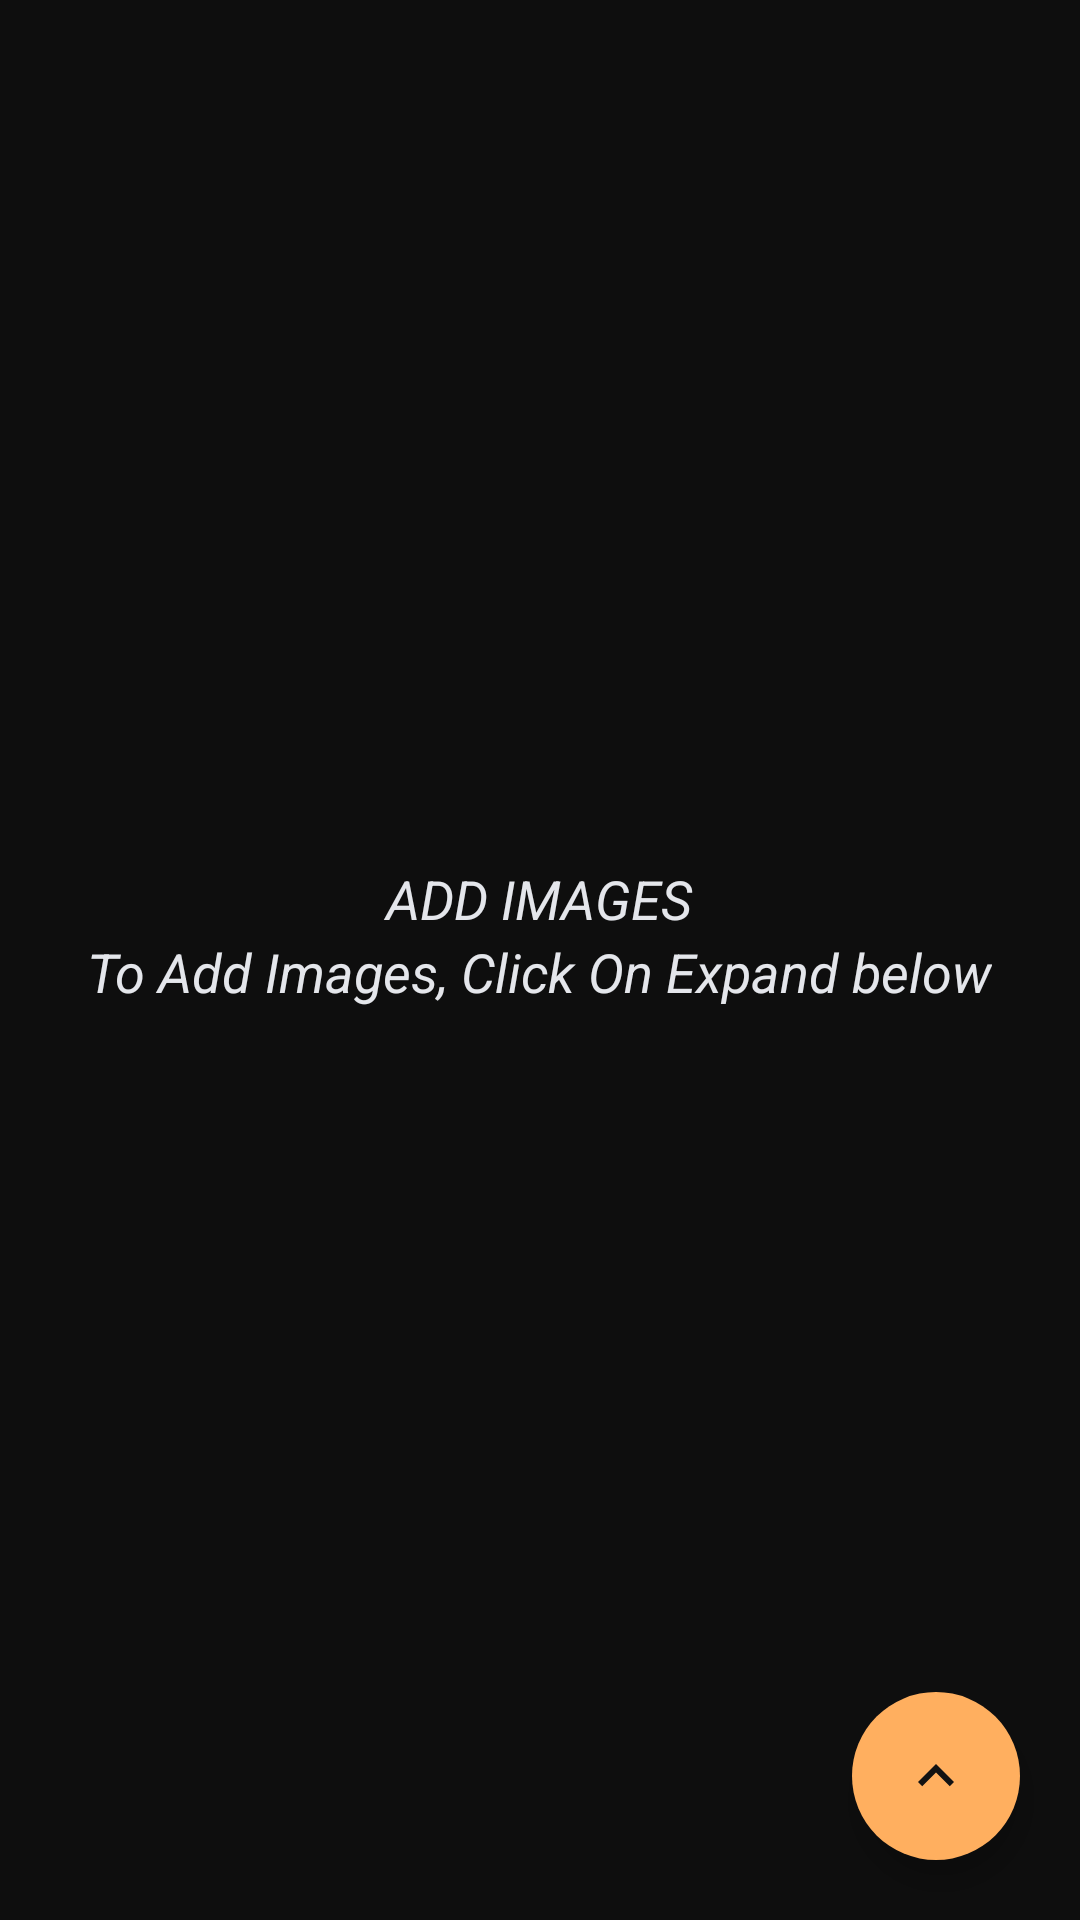

Icons on this 1080x1920 Android screen, each with its box as (x1, y1, x2, y2):
Show More: (852, 1692, 1020, 1860)
